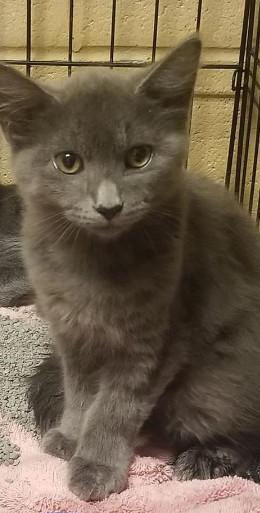rblue: (1, 13, 219, 282)
